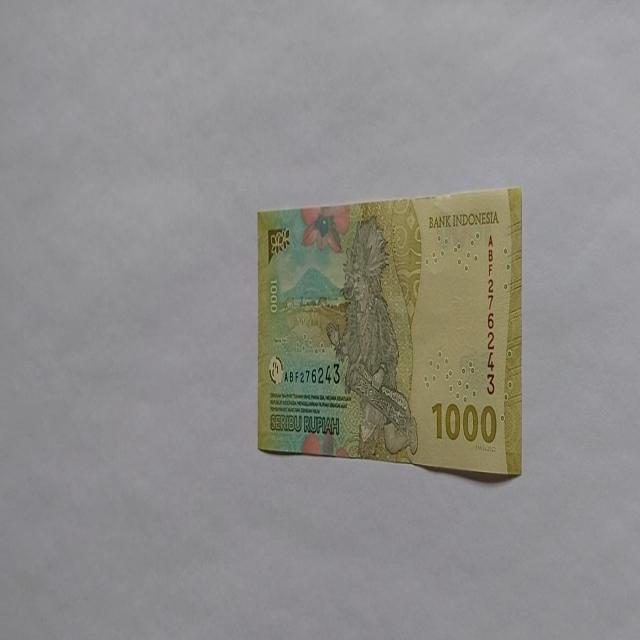seribu rupiah kertas: (255, 186, 522, 478)
